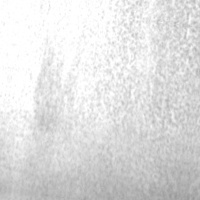pitted_surface: (33, 8, 199, 135)
